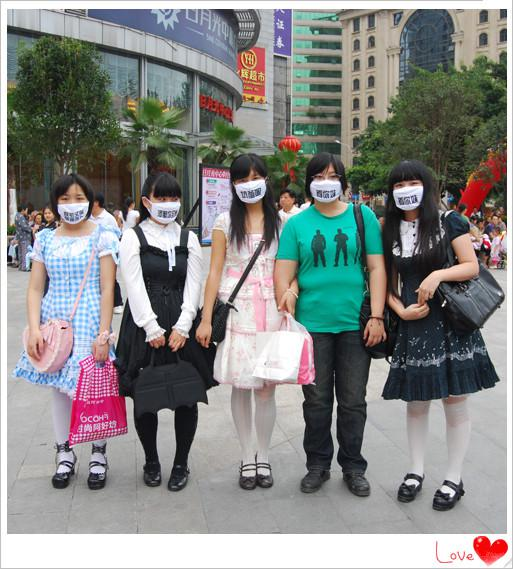NONE: (281, 195, 292, 209), (44, 210, 54, 221)
OK: (55, 188, 91, 224), (235, 174, 269, 204), (150, 192, 181, 223), (310, 171, 342, 201), (395, 179, 427, 209)
